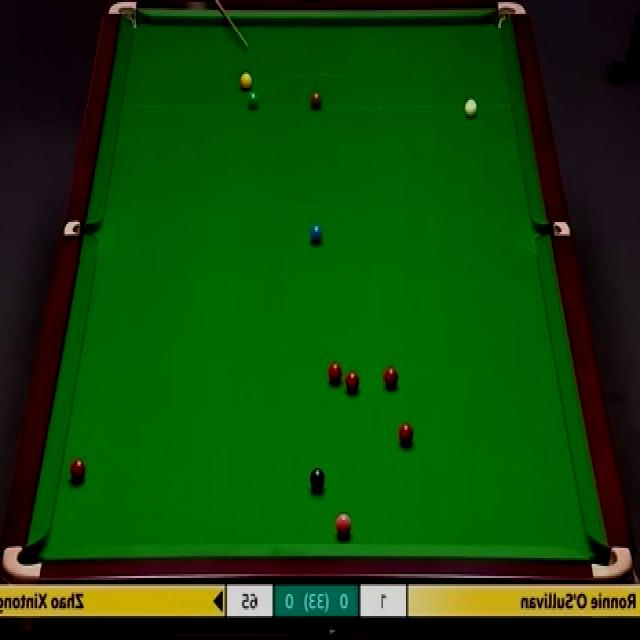pocket: (0, 543, 43, 582), (592, 543, 632, 582), (108, 0, 140, 32), (495, 2, 528, 29), (63, 218, 100, 237), (538, 221, 574, 234)
